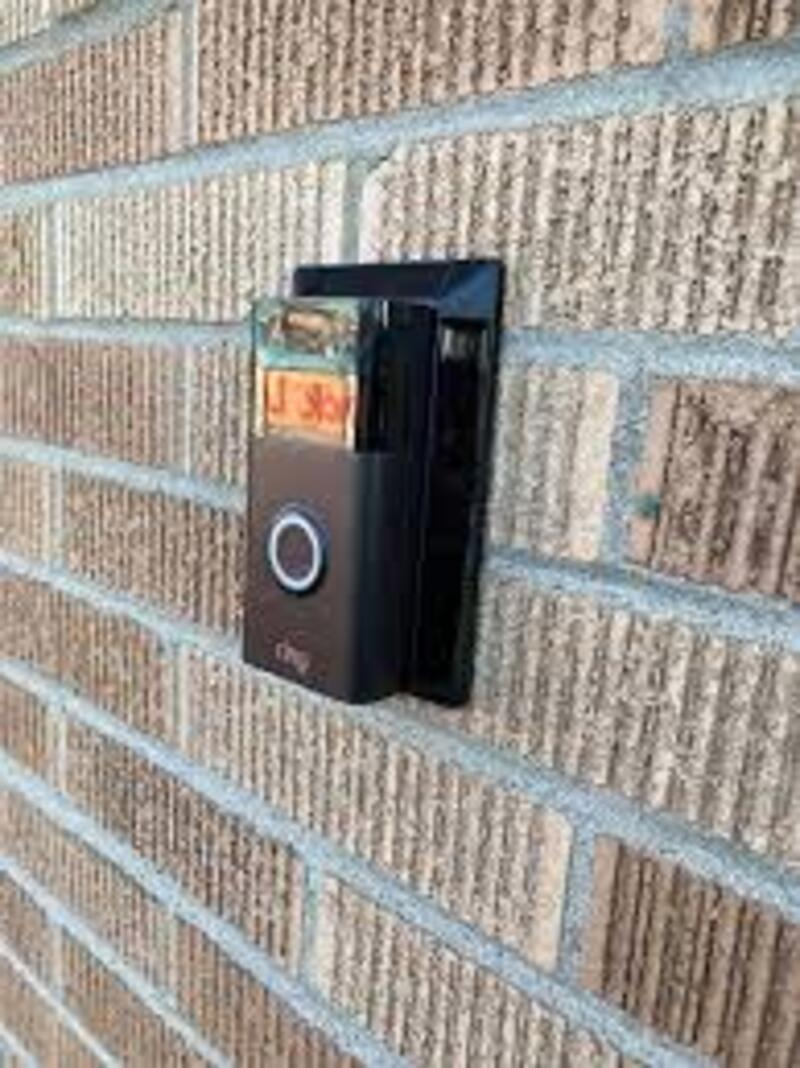doorbell: (242, 295, 374, 683)
